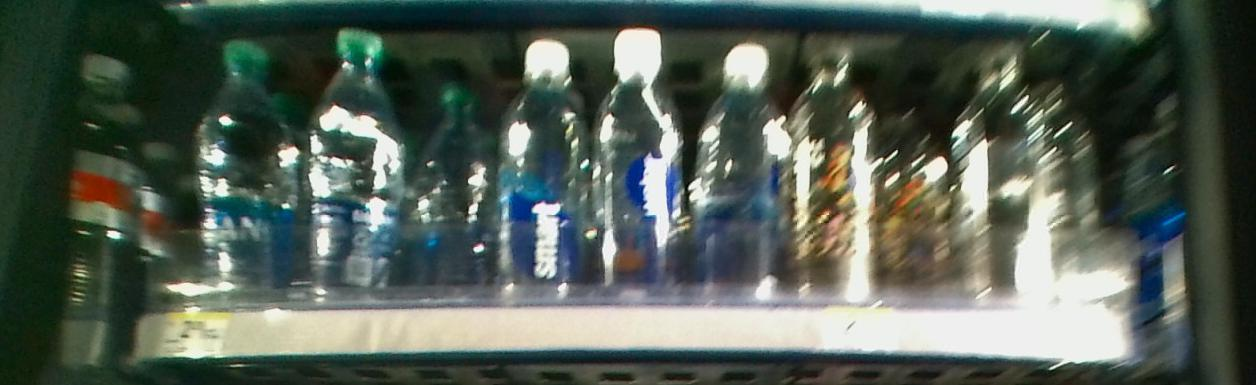bottle: (189, 35, 295, 286), (591, 29, 684, 302), (961, 31, 1050, 305), (694, 40, 785, 300), (305, 31, 393, 297), (795, 45, 879, 300), (509, 31, 585, 300), (414, 63, 496, 295)
